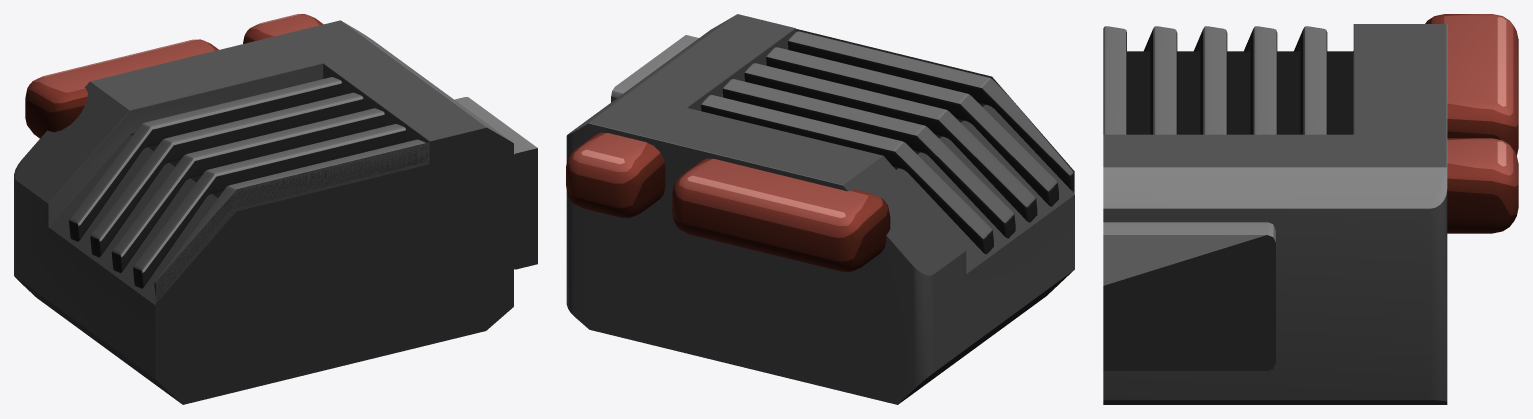
Rendered from ixm_dock_tl.glb.
3 renders of one model, left to right at view 1: azimuth 30°, elevation 25°; view 2: azimuth 150°, elevation 25°; view 3: azimuth 270°, elevation 25°, orthographic. The views are drawn at different scales.
Parts seen in each view (by area): view 1: ixm_dock_tl; view 2: ixm_dock_tl; view 3: ixm_dock_tl.
Part boxes in pixels (bbox=[...]): ixm_dock_tl: bbox=[14, 14, 537, 404]; ixm_dock_tl: bbox=[566, 14, 1074, 404]; ixm_dock_tl: bbox=[1103, 14, 1518, 404].
Bounding box in the file's own units: 20.7 × 10.5 × 16.6.
